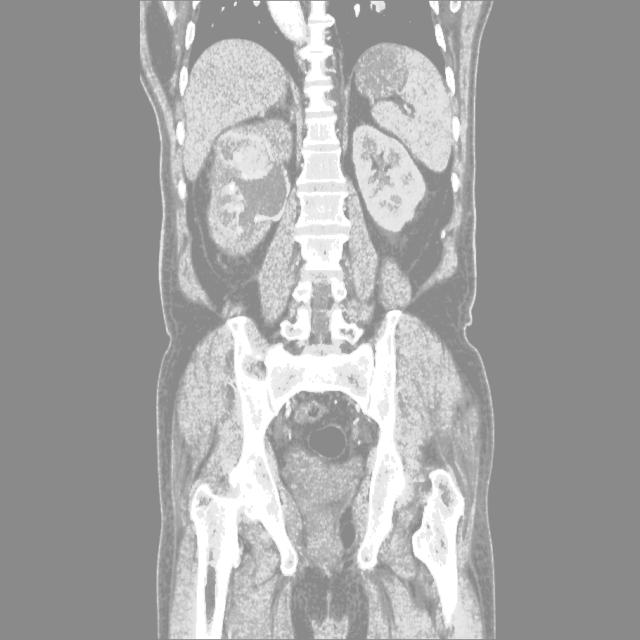TUMOR: (193, 143, 437, 287)
